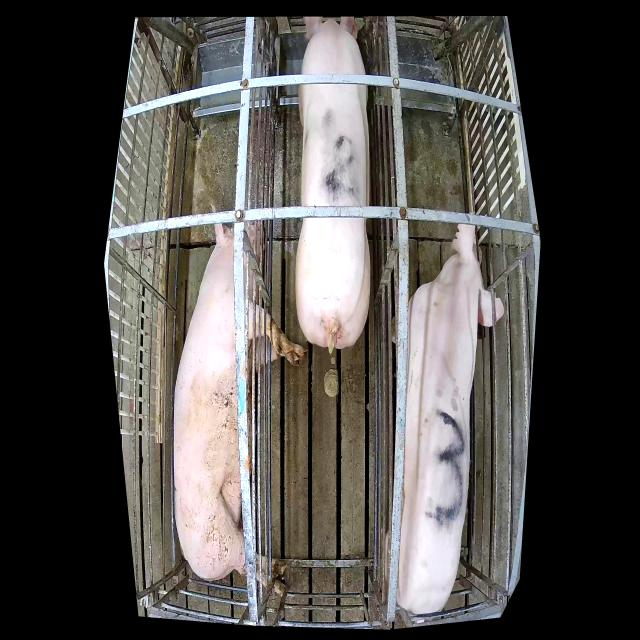pig: (174, 207, 308, 601), (384, 223, 505, 615), (295, 17, 370, 354)
